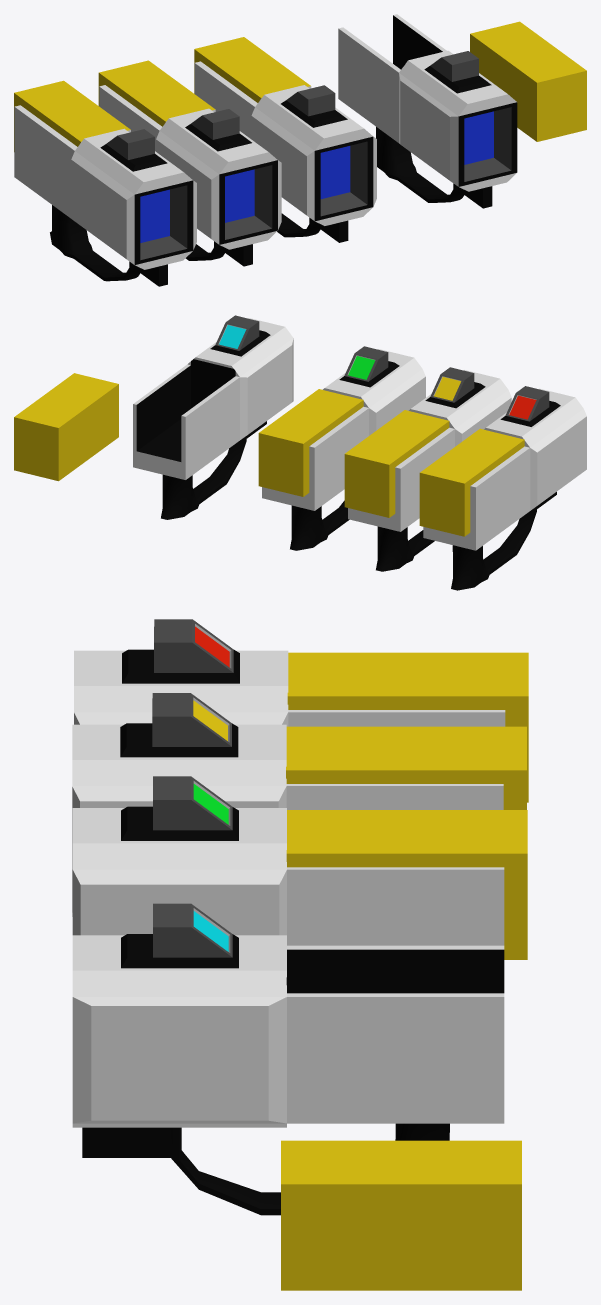
The model's file is HarvestGun (1).fbx.
3 views of the same model, one above another, from view 1: azimuth 30°, elevation 25°; view 2: azimuth 150°, elevation 25°; view 3: azimuth 270°, elevation 25° (orthographic). The views are drawn at different scales.
Parts seen in each view (by area): view 1: Cube.002, Cube.004, Cube.006, Cube.001, Cube.005; view 2: Cube.002, Cube.004, Cube.006, Cube.001, Cube.005; view 3: Cube.004, Cube.006, Cube.001, Cube.005, Cube.002.
Boxes of the visible parts, <box> form: Cube.002: <box>14,80,196,286</box>; Cube.004: <box>338,14,517,208</box>; Cube.006: <box>194,37,376,242</box>; Cube.001: <box>98,60,281,266</box>; Cube.005: <box>470,21,586,141</box>; Cube.002: <box>419,386,586,590</box>; Cube.004: <box>133,315,293,519</box>; Cube.006: <box>258,346,425,550</box>; Cube.001: <box>344,367,511,571</box>; Cube.005: <box>14,373,118,481</box>; Cube.004: <box>72,903,504,1215</box>; Cube.006: <box>72,776,527,959</box>; Cube.001: <box>72,693,526,916</box>; Cube.005: <box>281,1140,521,1290</box>; Cube.002: <box>74,619,528,802</box>.
Bounding box in the file's own units: 150 × 45.39 × 64.23.
